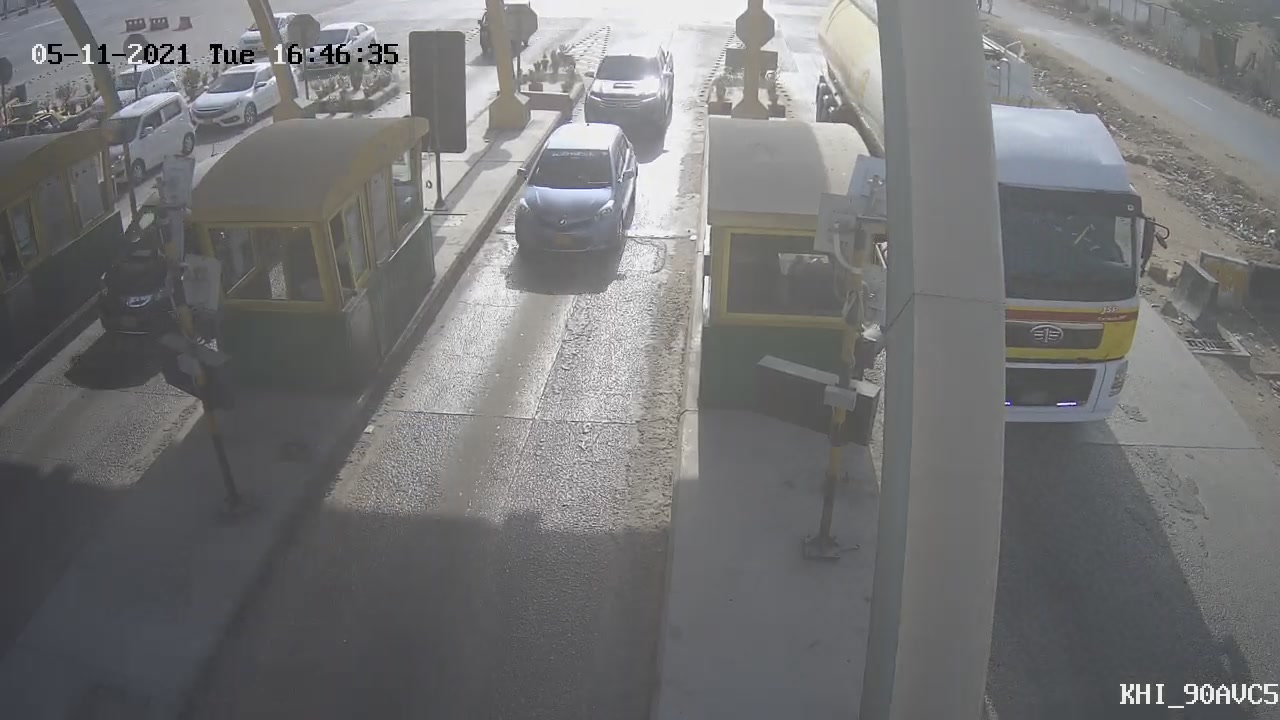F1: (492, 107, 659, 277), (573, 27, 687, 152)
